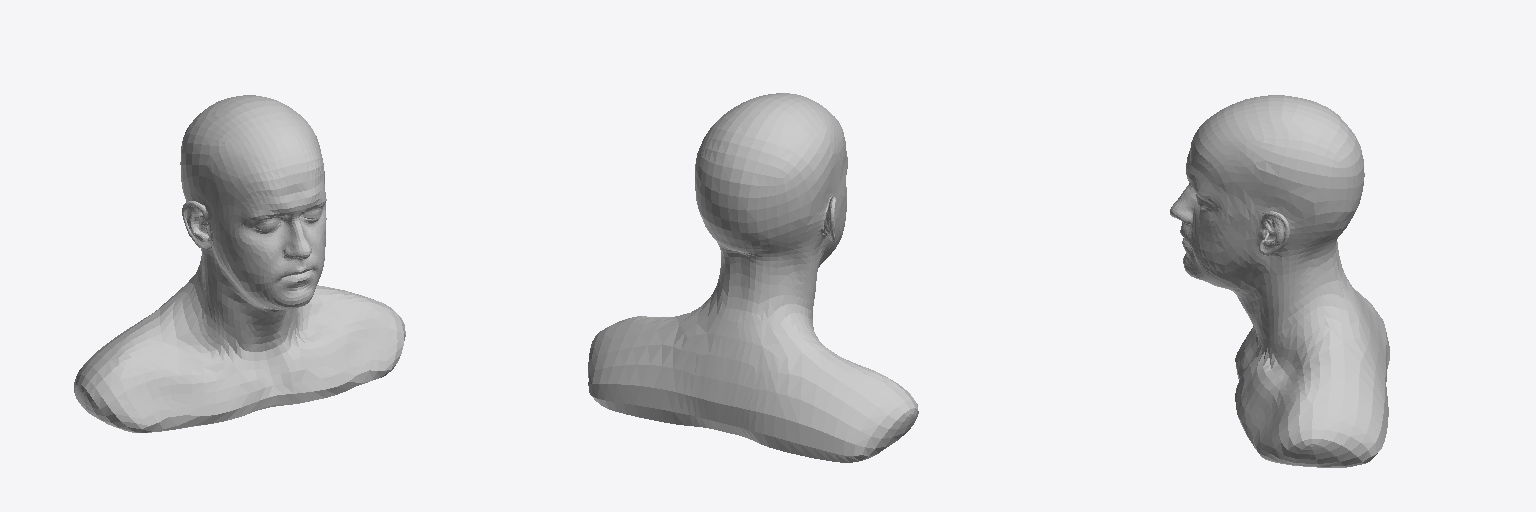
File: head_scaled.obj
The picture shows the model from 3 angles: view 1: azimuth 30°, elevation 25°; view 2: azimuth 150°, elevation 25°; view 3: azimuth 270°, elevation 25°; orthographic projection.
Visible parts, largest first — view 1: Group2, Group19, Group14, Group4, Group5; view 2: Group2, Group4, Group19, Group5; view 3: Group2, Group19, Group14, Group4, Group5.
Part boxes in pixels (bbox=[...]): Group2: bbox=[76, 95, 403, 432]; Group19: bbox=[205, 144, 326, 277]; Group14: bbox=[214, 236, 325, 309]; Group4: bbox=[74, 315, 405, 432]; Group5: bbox=[182, 194, 213, 249]; Group2: bbox=[588, 93, 914, 455]; Group4: bbox=[588, 331, 918, 462]; Group19: bbox=[829, 112, 847, 218]; Group5: bbox=[817, 187, 835, 240]; Group2: bbox=[1210, 95, 1389, 459]; Group19: bbox=[1170, 116, 1266, 244]; Group14: bbox=[1182, 226, 1264, 288]; Group4: bbox=[1265, 429, 1377, 467]; Group5: bbox=[1254, 203, 1296, 255].
Size of the model in its own units: 453 by 421 by 275.